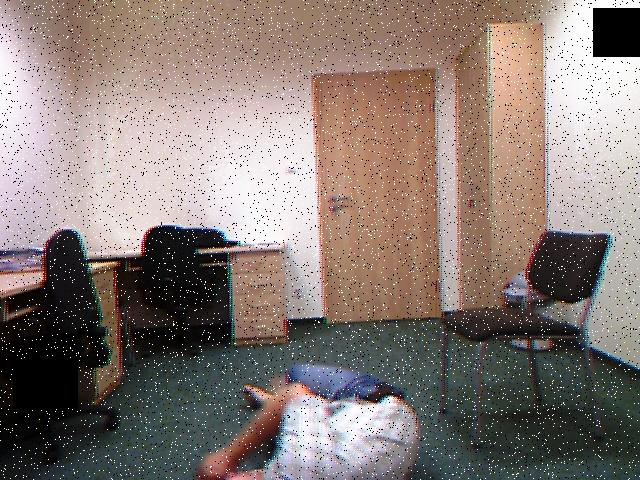fall: (193, 361, 419, 480)
